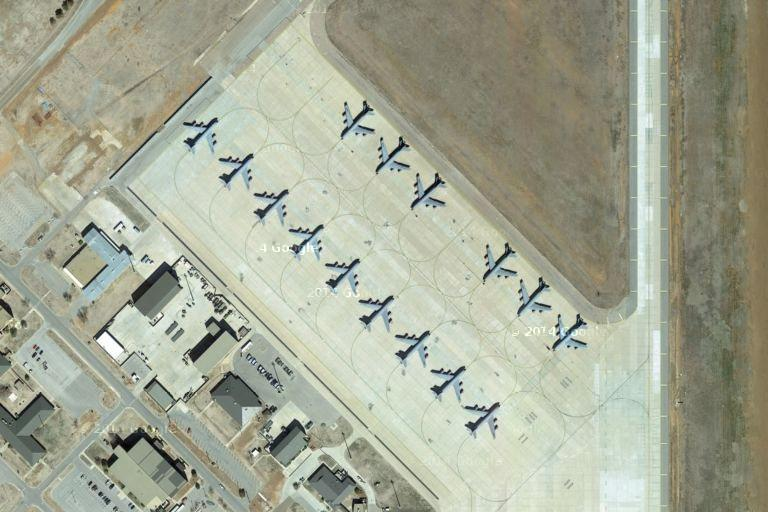KC-135: (511, 276, 554, 320), (548, 313, 591, 356), (407, 170, 450, 213), (371, 135, 414, 178), (462, 398, 505, 441), (356, 293, 400, 335), (180, 116, 224, 158), (250, 186, 293, 228), (392, 328, 436, 369), (337, 99, 378, 142), (286, 223, 329, 263), (322, 256, 363, 297), (215, 153, 258, 192), (429, 363, 469, 404), (478, 243, 517, 285)
